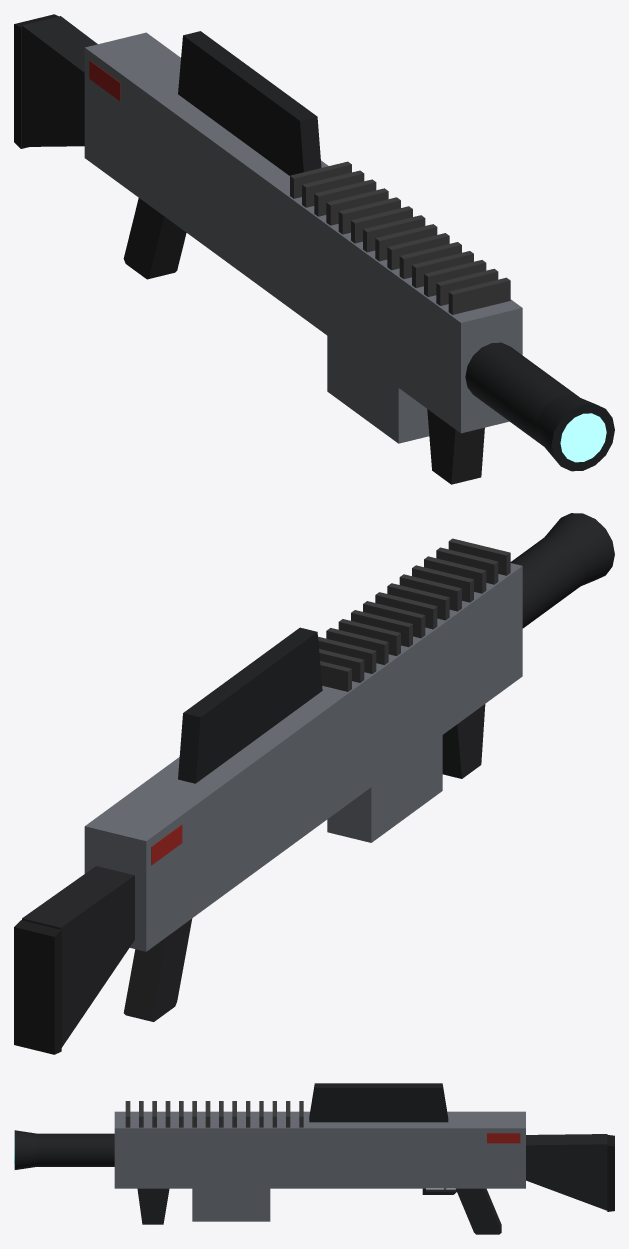
File: excimer-lance.glb
3 renders of one model, top to bottom at view 1: azimuth 30°, elevation 25°; view 2: azimuth 150°, elevation 25°; view 3: azimuth 270°, elevation 25°, orthographic. The views are drawn at different scales.
Visible parts, largest first — view 1: excimer-lance; view 2: excimer-lance; view 3: excimer-lance.
Part boxes in pixels (bbox=[...]): excimer-lance: bbox=[14, 14, 614, 484]; excimer-lance: bbox=[14, 513, 614, 1054]; excimer-lance: bbox=[14, 1083, 614, 1234].
Bounding box in the file's own units: 0.072 × 0.288 × 1.08.
1 material, 1 textured.
